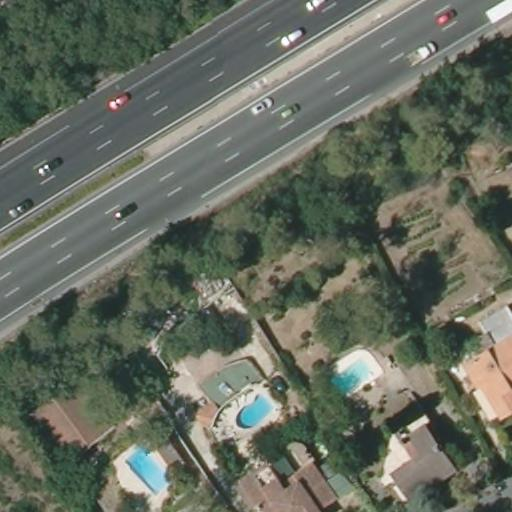pool: (121, 441, 176, 492), (325, 357, 378, 395), (235, 394, 277, 430)
